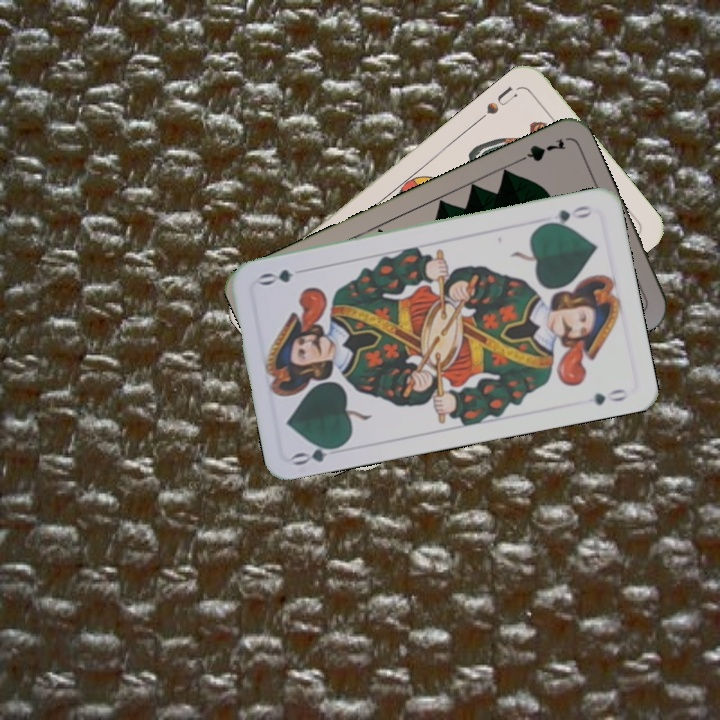G7: (511, 134, 569, 167)
GO: (289, 439, 348, 468), (539, 202, 595, 229)
SU: (473, 82, 520, 125)
